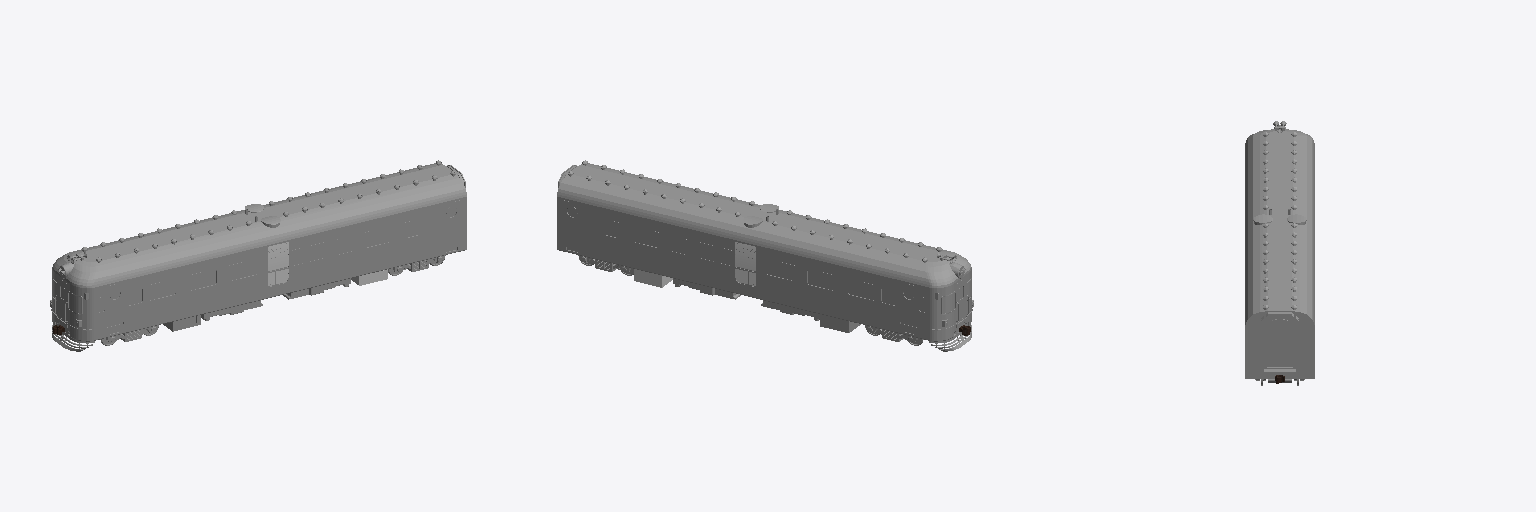
The picture shows the model from 3 angles: view 1: azimuth 30°, elevation 25°; view 2: azimuth 150°, elevation 25°; view 3: azimuth 270°, elevation 25°; orthographic projection.
Parts seen in each view (by area): view 1: SHELL_Cube, Cylinder.004_Cylinder.002, FUEL_TANK_Cube.001; view 2: SHELL_Cube, Cylinder.004_Cylinder.002, FUEL_TANK_Cube.001; view 3: SHELL_Cube, Cylinder.004_Cylinder.002, Cube.006_Cube.004.
Part boxes in pixels (bbox=[...]): SHELL_Cube: bbox=[50, 163, 466, 351]; Cylinder.004_Cylinder.002: bbox=[82, 160, 455, 262]; FUEL_TANK_Cube.001: bbox=[201, 278, 350, 320]; SHELL_Cube: bbox=[557, 163, 973, 351]; Cylinder.004_Cylinder.002: bbox=[568, 160, 941, 262]; FUEL_TANK_Cube.001: bbox=[673, 278, 819, 320]; SHELL_Cube: bbox=[1245, 129, 1314, 378]; Cylinder.004_Cylinder.002: bbox=[1253, 132, 1306, 309]; Cube.006_Cube.004: bbox=[1260, 312, 1299, 374].
Bounding box in the file's own units: 19.45 × 4.17 × 2.93.
8 materials, 1 textured.